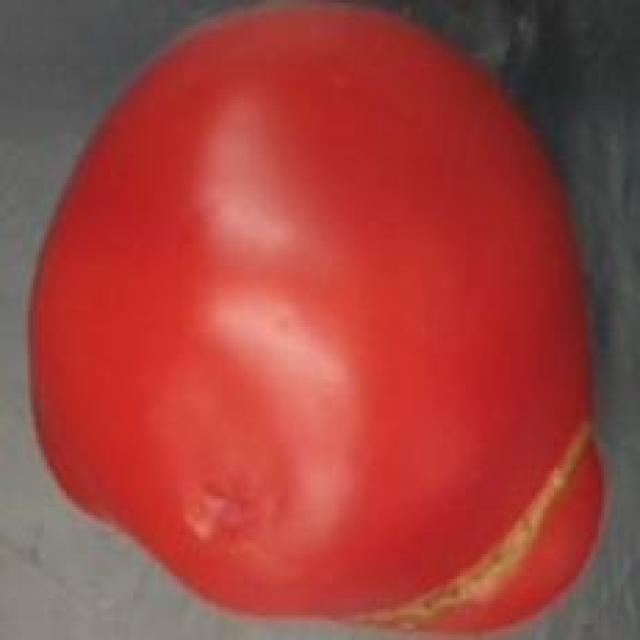overripe tomato: (25, 3, 612, 640)
